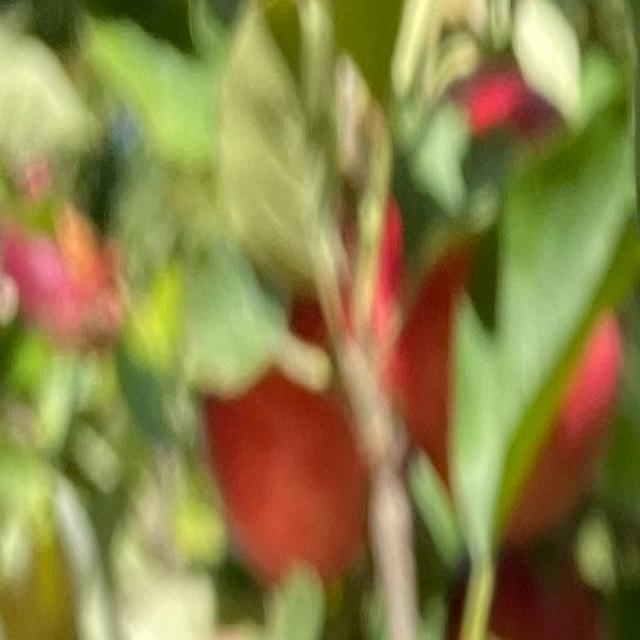100-_ripeness: (372, 70, 624, 540), (207, 290, 370, 578)
